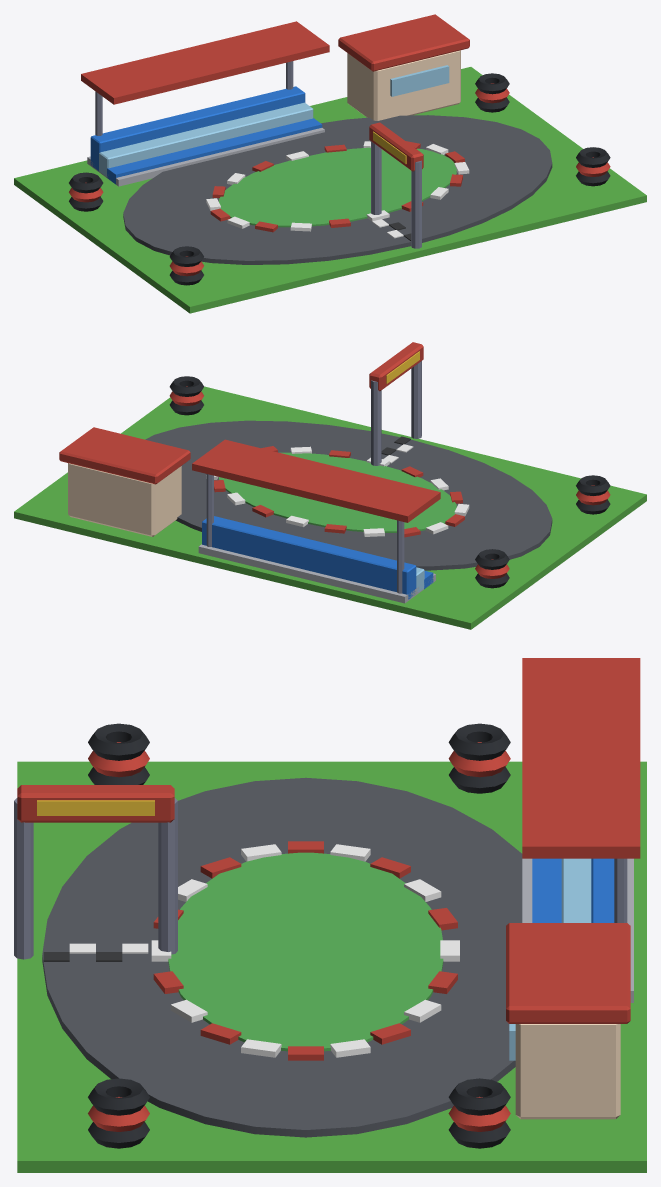
File: go-karts.glb
3 views of the same model, one above another, from view 1: azimuth 30°, elevation 25°; view 2: azimuth 150°, elevation 25°; view 3: azimuth 270°, elevation 25° (orthographic). The views are drawn at different scales.
Parts seen in each view (by area): view 1: model; view 2: model; view 3: model.
Part boxes in pixels (x1,y1,x2,y2): model: (14, 14, 646, 313); model: (14, 342, 646, 629); model: (14, 658, 646, 1172).
Bounding box in the file's own units: 2.88 × 0.62 × 1.93.
1 material, 1 textured.
